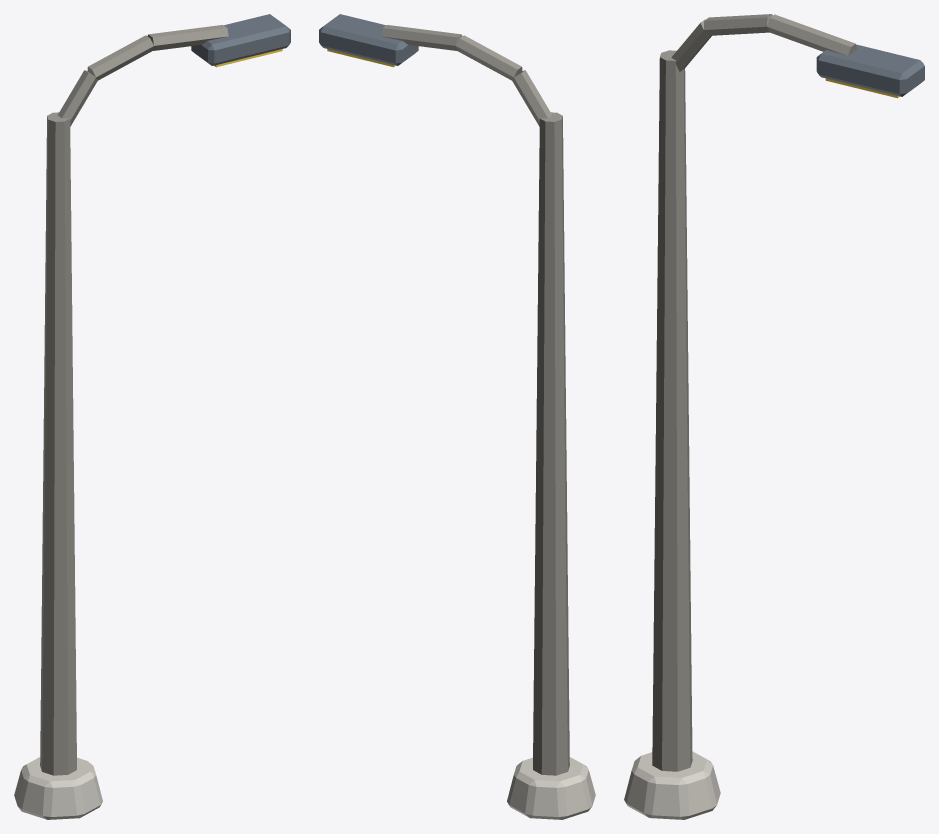
The model's file is mobiliario-poste_luz.glb.
3 views of the same model, side by side, from view 1: azimuth 30°, elevation 25°; view 2: azimuth 150°, elevation 25°; view 3: azimuth 330°, elevation 25° (orthographic). The views are drawn at different scales.
Visible parts, largest first — view 1: corpo; view 2: corpo; view 3: corpo.
Part boxes in pixels (box(x1,y1,x2,y2)): corpo: box(14, 14, 290, 819); corpo: box(319, 14, 595, 819); corpo: box(624, 14, 924, 819).
Size of the model in its own units: 0.6337 by 1.72 by 0.1874.
